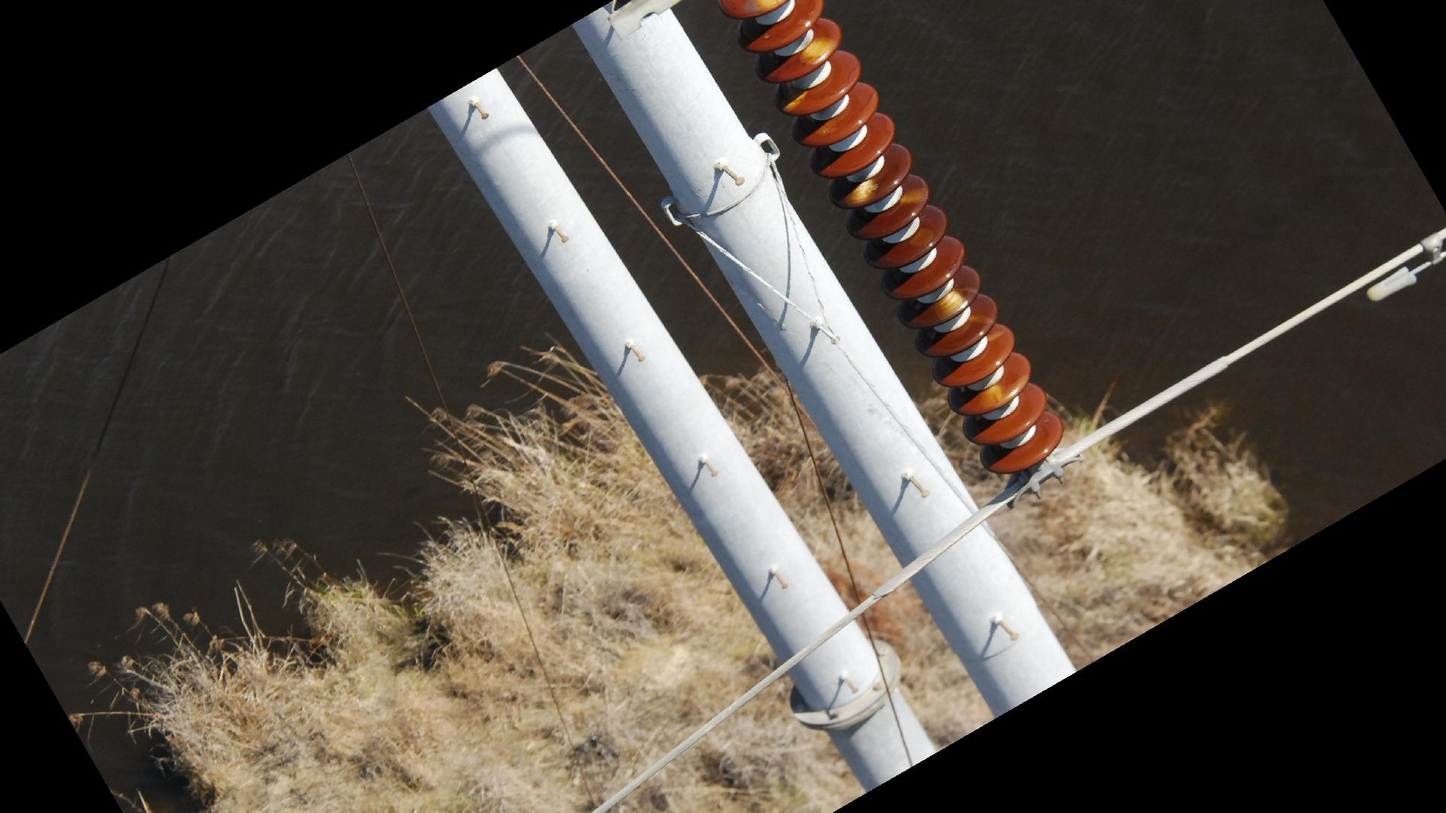insulator: (711, 1, 1068, 478)
insulator_flashover: (798, 34, 840, 67), (840, 175, 877, 210), (933, 288, 966, 324), (776, 84, 810, 114), (894, 182, 931, 206), (980, 381, 1005, 414)
